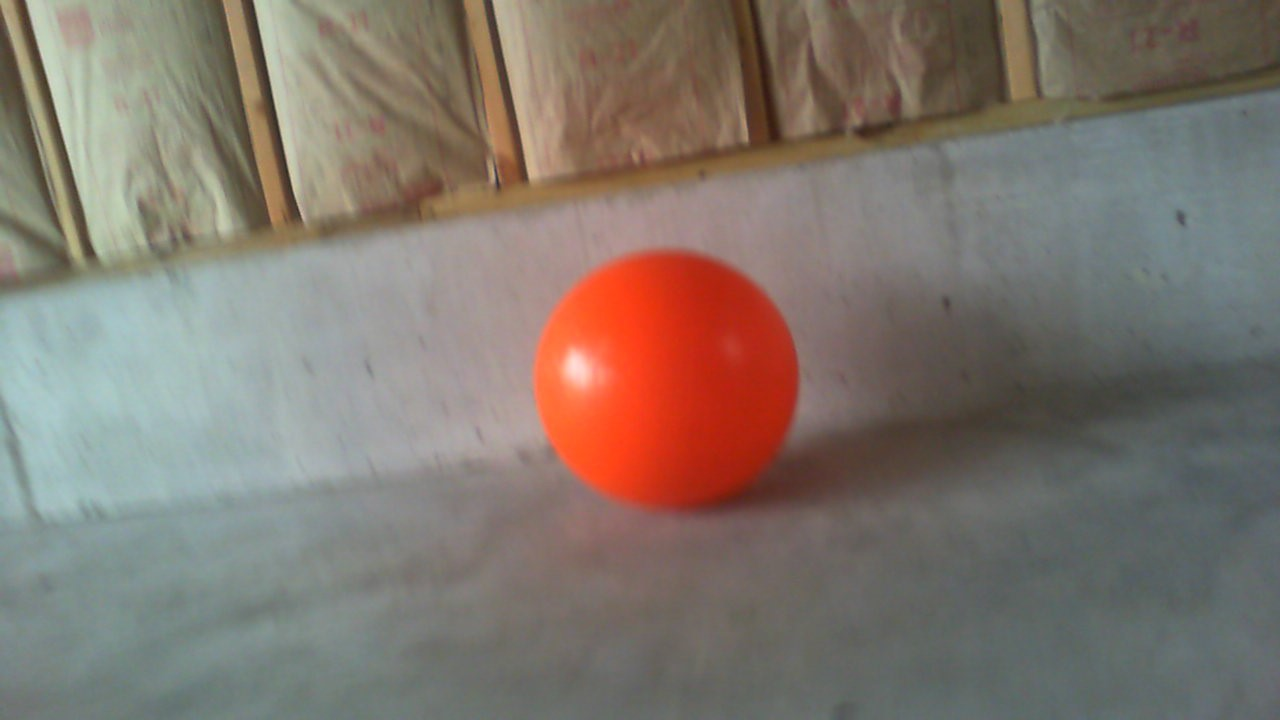Ball: (532, 250, 797, 508)
